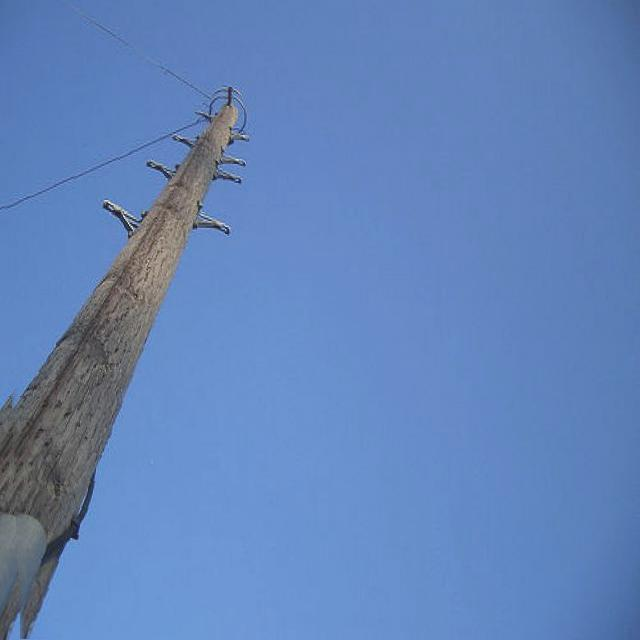pole: (9, 92, 249, 640)
wire: (7, 112, 207, 213), (64, 0, 211, 103)
